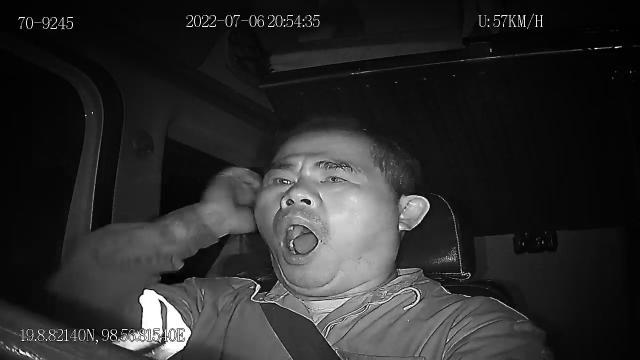SafeDriving: (312, 162, 356, 188), (262, 168, 298, 190)
Seatbelt: (258, 298, 344, 360)
